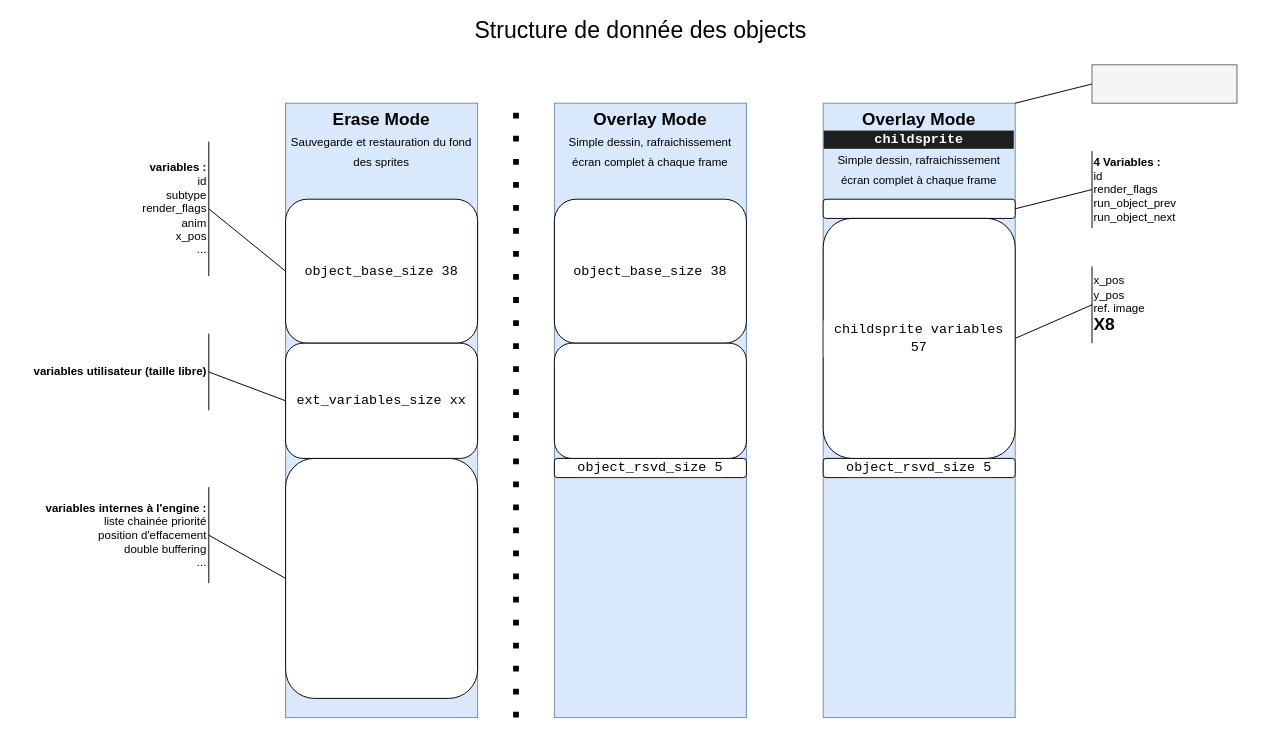
Image size: 1261x737. Some labels were removed from this diagram. The shapes that lost their labels are listed below. From the top down, each one's centre as x and y in pixels, then its label:
(x=1164, y=83): bit #6 of render_flags set
(x=918, y=208): object_base_size 6
(x=649, y=400): ext_variables_size xx Minimum 25 (si childsprite est utilisé)
(x=381, y=577): object_rsvd_size 59
